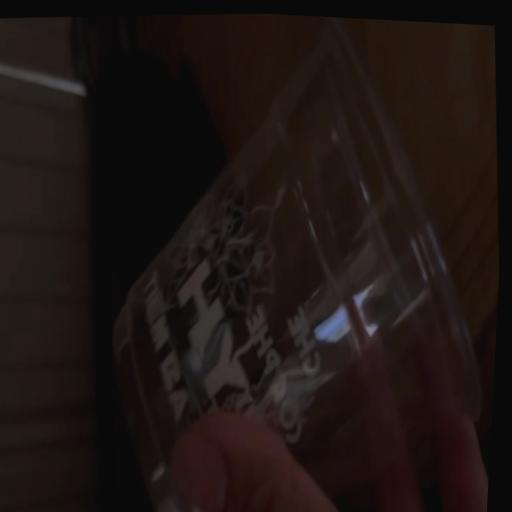ly_giay: (113, 17, 481, 512)
